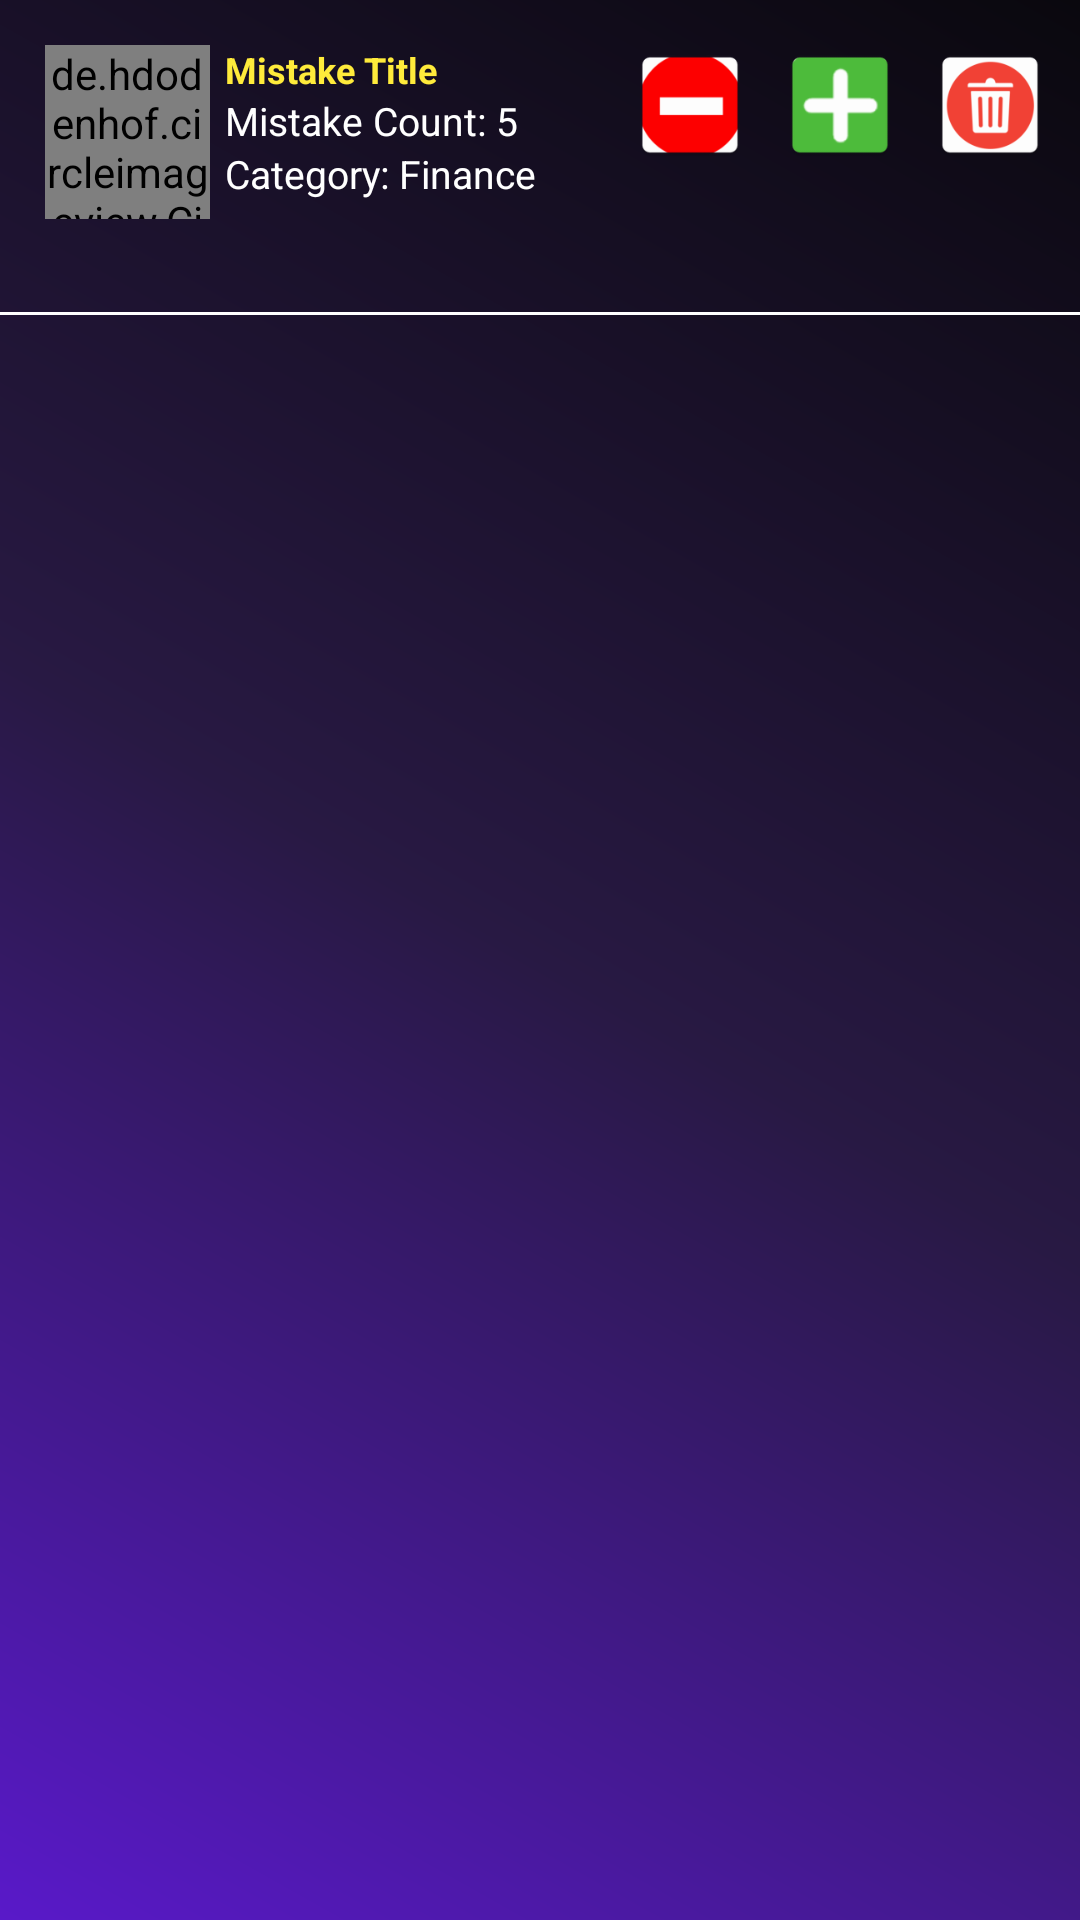

Icon bounding boxes for this 1080x1920 phone screenshot, format (x1,y1,x2,y2):
add: (792,57,888,153)
delete: (942,57,1038,153)
subtract: (642,57,738,153)
